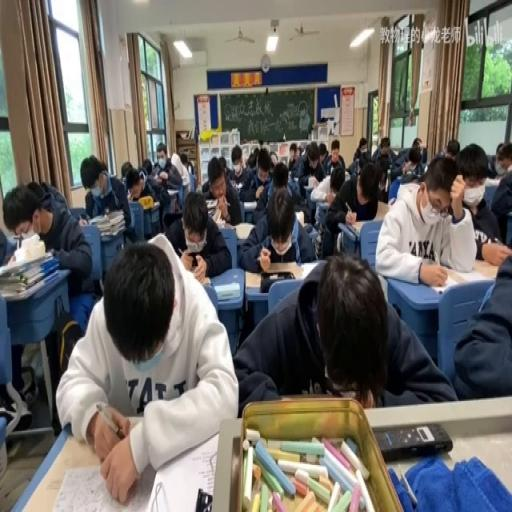calculator: (52, 457, 154, 509), (244, 259, 306, 284), (421, 273, 463, 293), (470, 256, 502, 279), (348, 218, 381, 236), (213, 282, 241, 300), (314, 200, 330, 228), (233, 222, 254, 240), (373, 198, 389, 219), (210, 204, 224, 224), (484, 176, 502, 188), (88, 213, 104, 225), (302, 176, 318, 188), (204, 196, 218, 209), (293, 209, 303, 225), (77, 215, 89, 226), (166, 186, 178, 196), (243, 201, 256, 209), (180, 174, 190, 182), (290, 172, 298, 181)
paper: (54, 234, 234, 504), (234, 253, 452, 411), (375, 155, 477, 286), (2, 178, 94, 308), (450, 240, 511, 401), (238, 181, 316, 270), (164, 186, 232, 280), (324, 158, 386, 256), (85, 154, 136, 246), (487, 147, 512, 243), (128, 162, 162, 228), (294, 140, 326, 206), (152, 142, 185, 194), (391, 142, 425, 185), (38, 176, 70, 215), (227, 142, 251, 189), (324, 138, 346, 175), (373, 134, 395, 168), (350, 136, 371, 170), (358, 173, 377, 202), (271, 161, 289, 189), (179, 151, 192, 176), (444, 140, 459, 160), (246, 148, 259, 169), (375, 163, 387, 185), (141, 158, 153, 178), (486, 154, 498, 174), (121, 159, 132, 179), (330, 178, 342, 196), (494, 141, 504, 161), (318, 142, 327, 164), (218, 155, 228, 171), (289, 145, 297, 165), (419, 145, 426, 164), (270, 149, 278, 165), (411, 138, 421, 148), (298, 142, 304, 158), (358, 144, 365, 154), (352, 151, 358, 159)
person: (374, 422, 452, 461), (194, 488, 211, 509)
